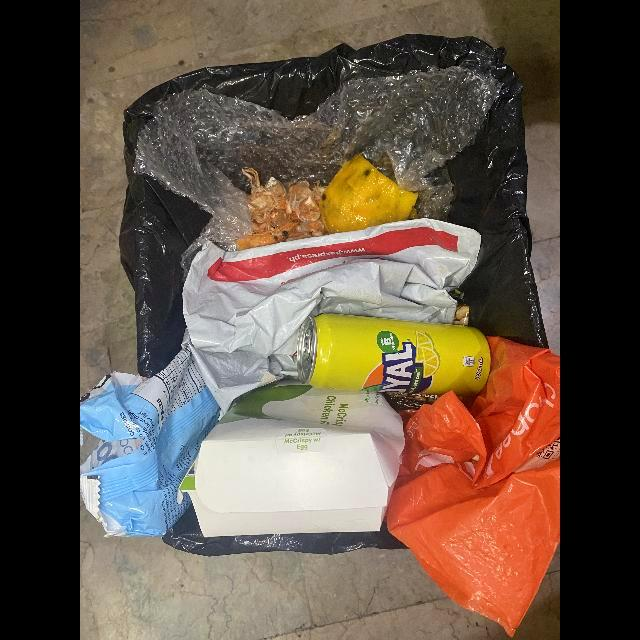aluminum: (295, 312, 492, 399)
cardboard: (179, 375, 405, 537)
food_wrapper: (80, 328, 220, 539)
left_over_food: (236, 167, 329, 250)
plastic_bag: (135, 65, 501, 281), (182, 219, 482, 421)
